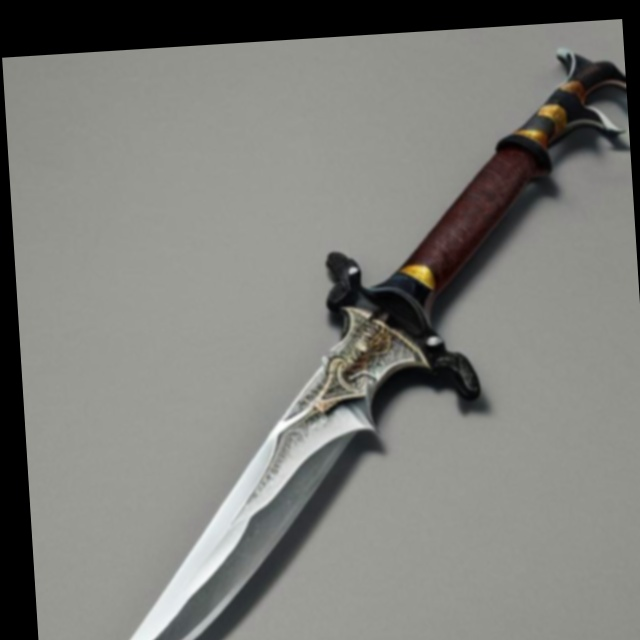Sharp-Object: (52, 38, 640, 640)
